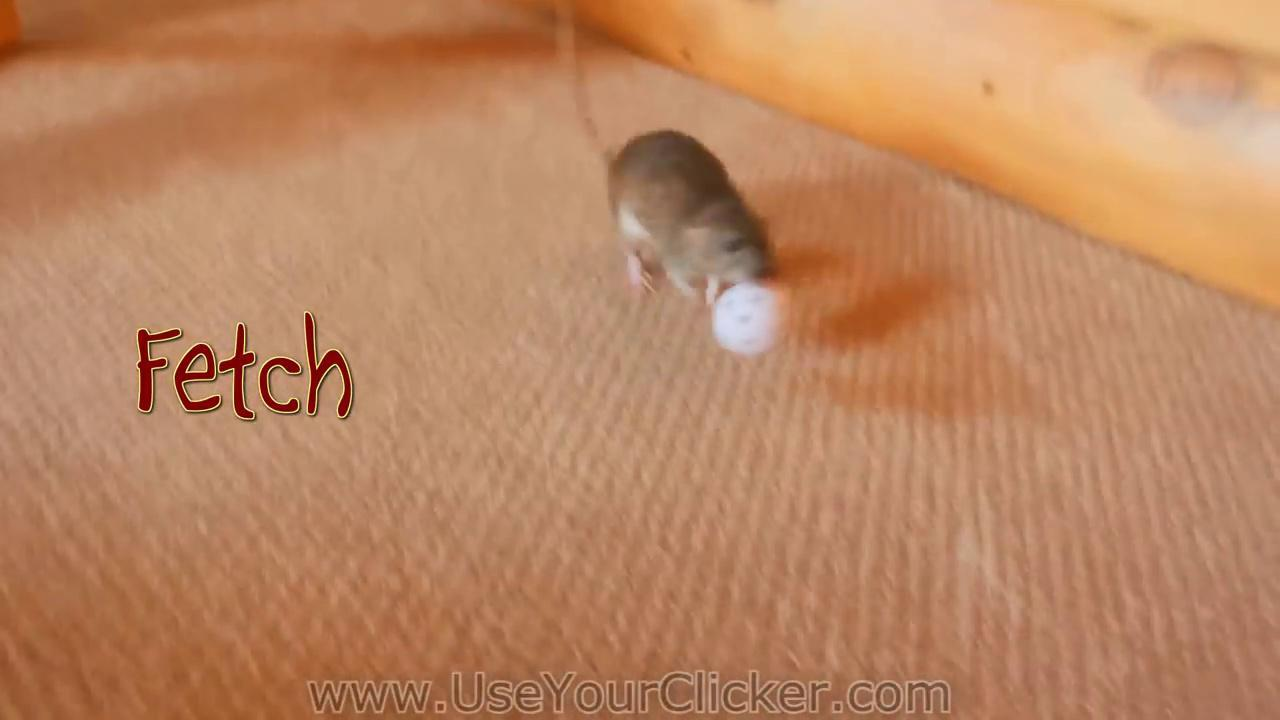rat: (556, 0, 784, 298)
